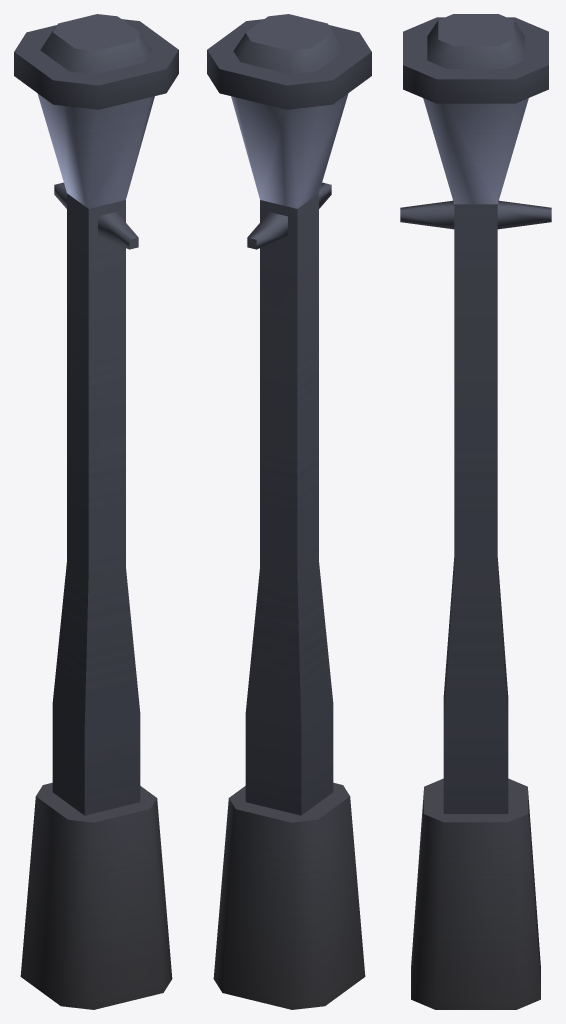
File: lantern.glb
3 renders of one model, left to right at view 1: azimuth 30°, elevation 25°; view 2: azimuth 150°, elevation 25°; view 3: azimuth 270°, elevation 25°, orthographic.
Parts seen in each view (by area): view 1: lantern; view 2: lantern; view 3: lantern.
Boxes of the visible parts, box(x1,y1,x2,y2) form: lantern: box(14, 14, 178, 1009); lantern: box(207, 14, 371, 1009); lantern: box(400, 14, 551, 1009).
Bounding box in the file's own units: 0.2164 × 1.56 × 0.2243.
Materials: 1 (1 with a texture image).
